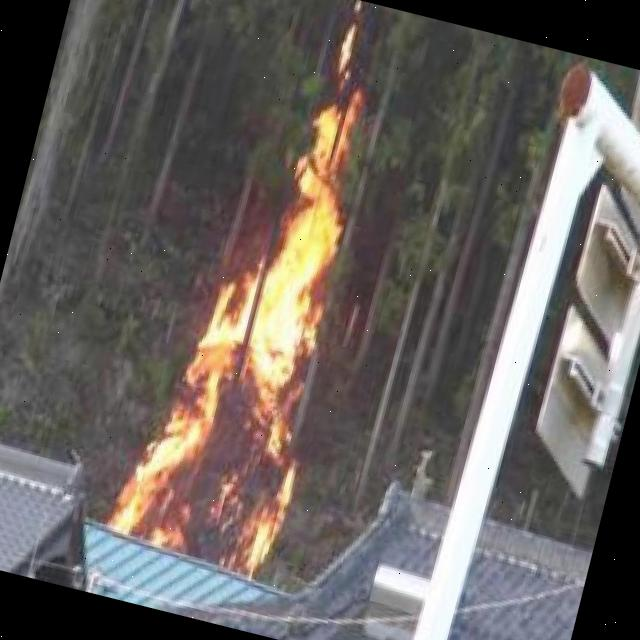fire: (107, 77, 384, 578)
